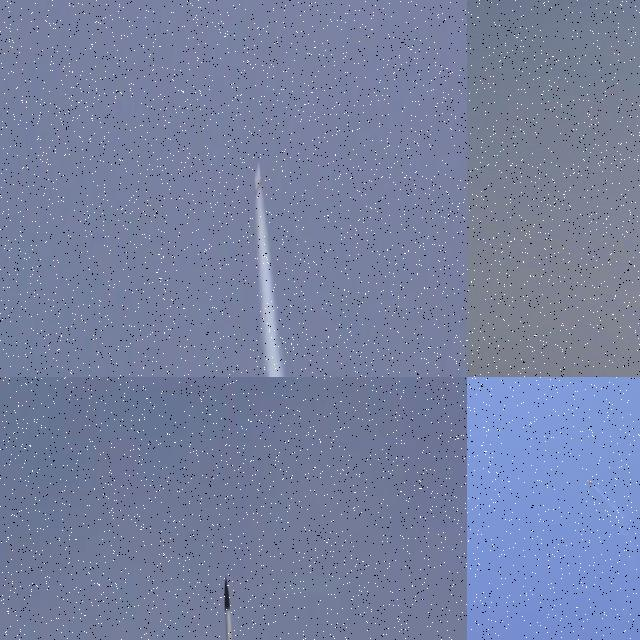Rocket: (223, 577, 245, 640), (254, 162, 264, 201), (587, 479, 593, 484)
